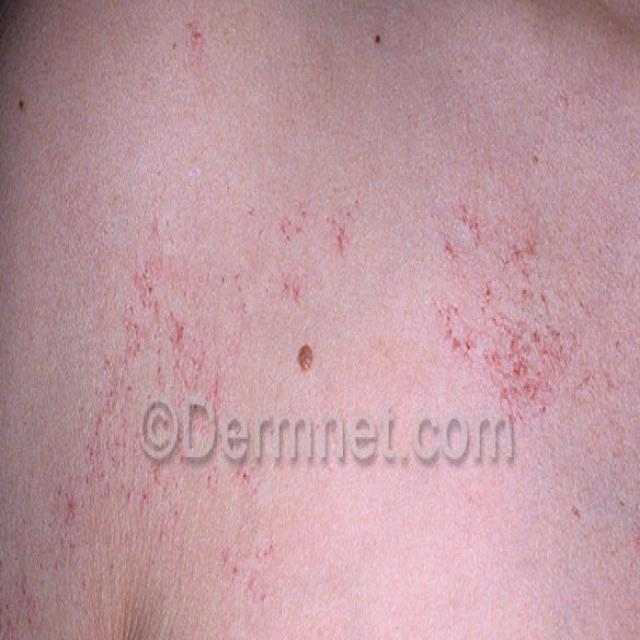Vascular Tumors: (52, 232, 243, 594), (421, 166, 609, 427), (293, 325, 324, 391), (492, 613, 550, 640), (9, 87, 35, 124), (368, 19, 389, 60)
